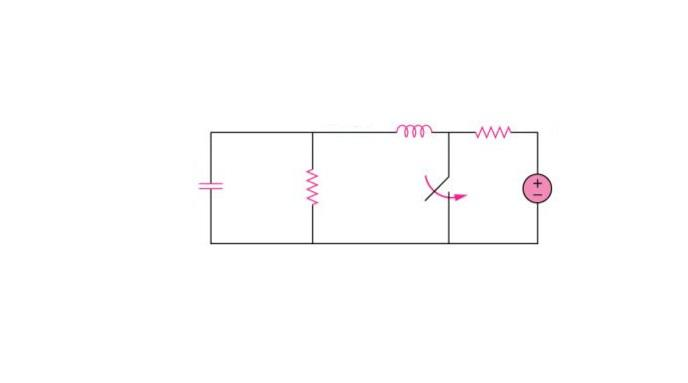resistor: (294, 155, 325, 214)
